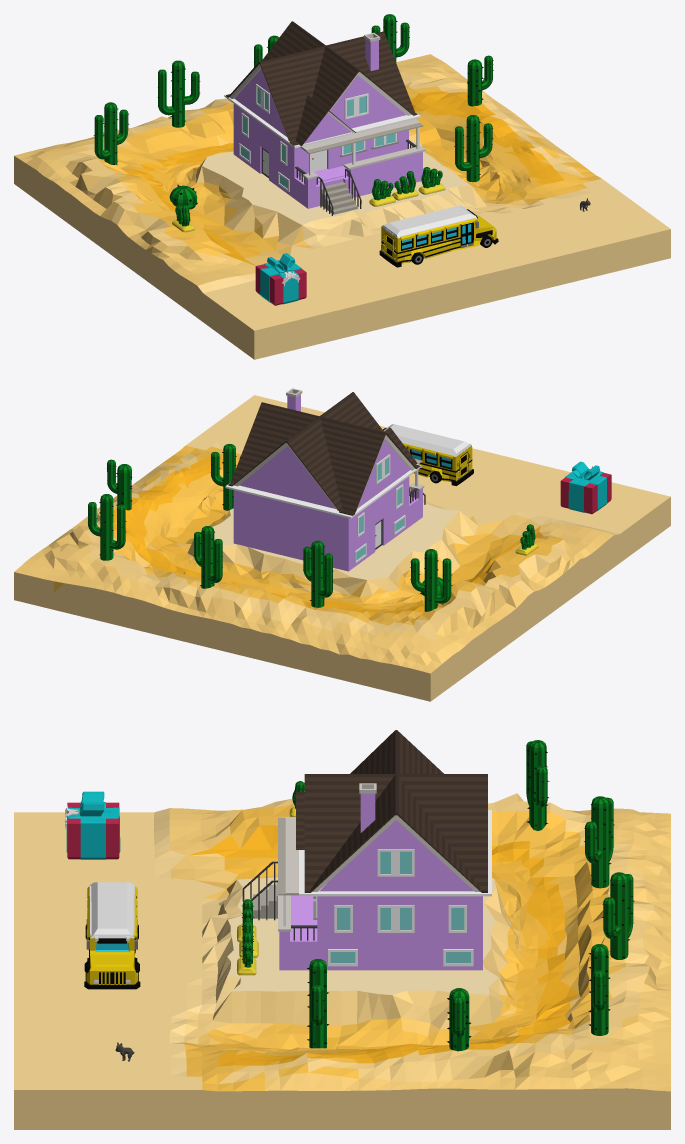
3 views of the same model, one above another, from view 1: azimuth 30°, elevation 25°; view 2: azimuth 150°, elevation 25°; view 3: azimuth 270°, elevation 25° (orthographic). The views are drawn at different scales.
Parts seen in each view (by area): view 1: Cube.001, Cube.391, VEHICLES_SCHOOL_BUS, OBJRANDOM_GIANT_PRESENT, Cylinder.037, Cylinder.044, Cylinder.045, Cylinder.038, Cylinder.042, Cylinder.039, Cylinder.041, Sphere.023 (+1 smaller); view 2: Cube.001, Cube.391, VEHICLES_SCHOOL_BUS, OBJRANDOM_GIANT_PRESENT, Cylinder.042, Cylinder.045, Cylinder.044, Cylinder.043, Cylinder.037, Cylinder.038; view 3: Cube.001, Cube.391, VEHICLES_SCHOOL_BUS, OBJRANDOM_GIANT_PRESENT, Cylinder.043, Cylinder.044, Cylinder.045, Cylinder.042, Cylinder.037, Cylinder.038, Cylinder.041.
Boxes of the visible parts, x1=… form: Cube.001: x1=14, y1=54, x2=670, y2=359; Cube.391: x1=224, y1=21, x2=425, y2=215; VEHICLES_SCHOOL_BUS: x1=379, y1=205, x2=498, y2=267; OBJRANDOM_GIANT_PRESENT: x1=255, y1=253, x2=306, y2=305; Cylinder.037: x1=454, y1=115, x2=493, y2=182; Cylinder.044: x1=157, y1=60, x2=200, y2=127; Cylinder.045: x1=93, y1=102, x2=129, y2=164; Cylinder.038: x1=467, y1=55, x2=493, y2=106; Cylinder.042: x1=371, y1=14, x2=409, y2=62; Cylinder.039: x1=369, y1=179, x2=395, y2=206; Cylinder.041: x1=418, y1=167, x2=445, y2=194; Sphere.023: x1=169, y1=184, x2=197, y2=209; Cube.001: x1=14, y1=395, x2=670, y2=701; Cube.391: x1=225, y1=388, x2=425, y2=571; VEHICLES_SCHOOL_BUS: x1=383, y1=424, x2=473, y2=485; OBJRANDOM_GIANT_PRESENT: x1=560, y1=461, x2=611, y2=514; Cylinder.042: x1=88, y1=494, x2=126, y2=560; Cylinder.045: x1=410, y1=549, x2=452, y2=611; Cylinder.044: x1=303, y1=540, x2=333, y2=607; Cylinder.043: x1=193, y1=526, x2=222, y2=588; Cylinder.037: x1=211, y1=444, x2=240, y2=510; Cylinder.038: x1=107, y1=459, x2=131, y2=510; Cube.001: x1=14, y1=793, x2=670, y2=1129; Cube.391: x1=242, y1=730, x2=491, y2=970; VEHICLES_SCHOOL_BUS: x1=84, y1=882, x2=140, y2=989; OBJRANDOM_GIANT_PRESENT: x1=65, y1=791, x2=120, y2=859; Cylinder.043: x1=602, y1=872, x2=634, y2=959; Cylinder.044: x1=584, y1=796, x2=614, y2=888; Cylinder.045: x1=526, y1=740, x2=549, y2=830; Cylinder.042: x1=588, y1=944, x2=610, y2=1035; Cylinder.037: x1=307, y1=959, x2=329, y2=1048; Cylinder.038: x1=447, y1=988, x2=471, y2=1051; Cylinder.041: x1=237, y1=932, x2=256, y2=975.
Size of the model in its own units: 4002 by 1630 by 4001.
Materials: 35 (2 with a texture image).
